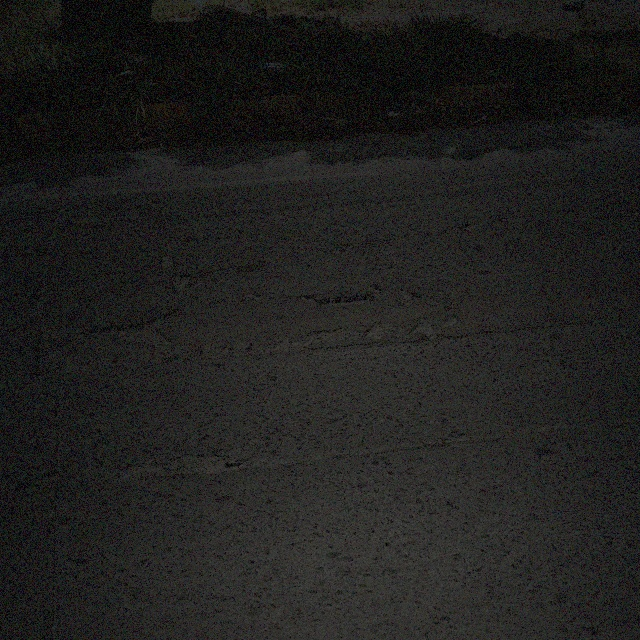pothole: (90, 315, 179, 367), (115, 448, 239, 482), (34, 315, 85, 374), (300, 285, 383, 306), (411, 313, 458, 342), (305, 322, 353, 349), (20, 466, 60, 496), (365, 320, 391, 344), (170, 274, 197, 296), (159, 253, 177, 276), (460, 221, 480, 231)
